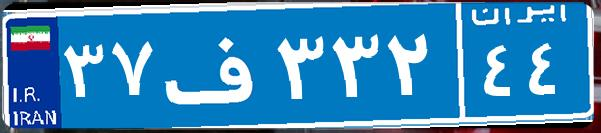2: (385, 28, 445, 110)
3: (273, 28, 330, 110), (330, 28, 385, 110), (57, 26, 110, 107)
4: (475, 38, 525, 113), (525, 38, 570, 115)
7: (110, 28, 158, 105)
ف: (158, 15, 273, 115)
